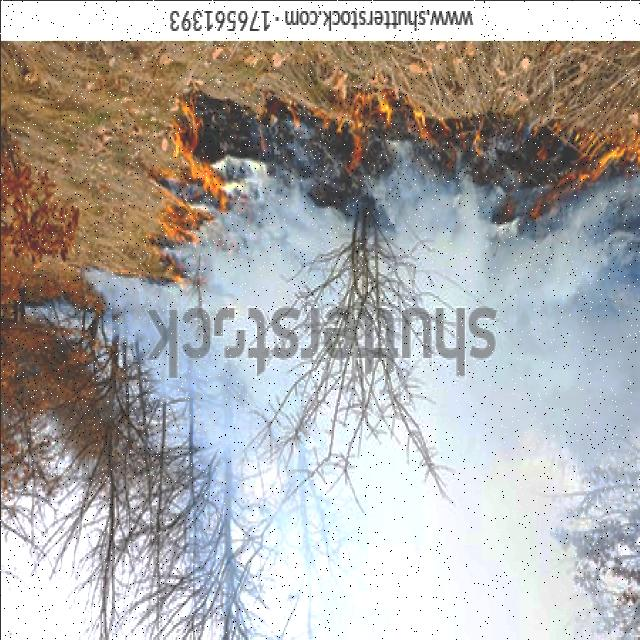api: (373, 79, 492, 163), (533, 127, 635, 221), (169, 92, 231, 216), (337, 81, 368, 178), (154, 205, 202, 253), (166, 269, 194, 286)
asap: (62, 136, 640, 640)
